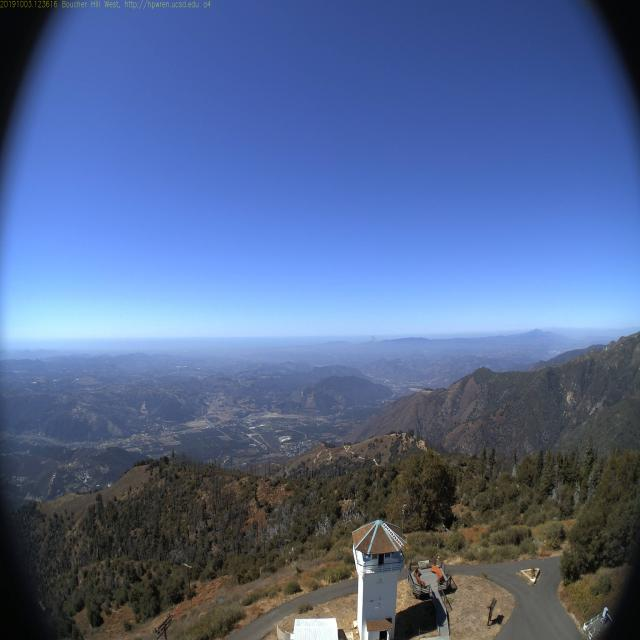smoke: (364, 331, 380, 351)
